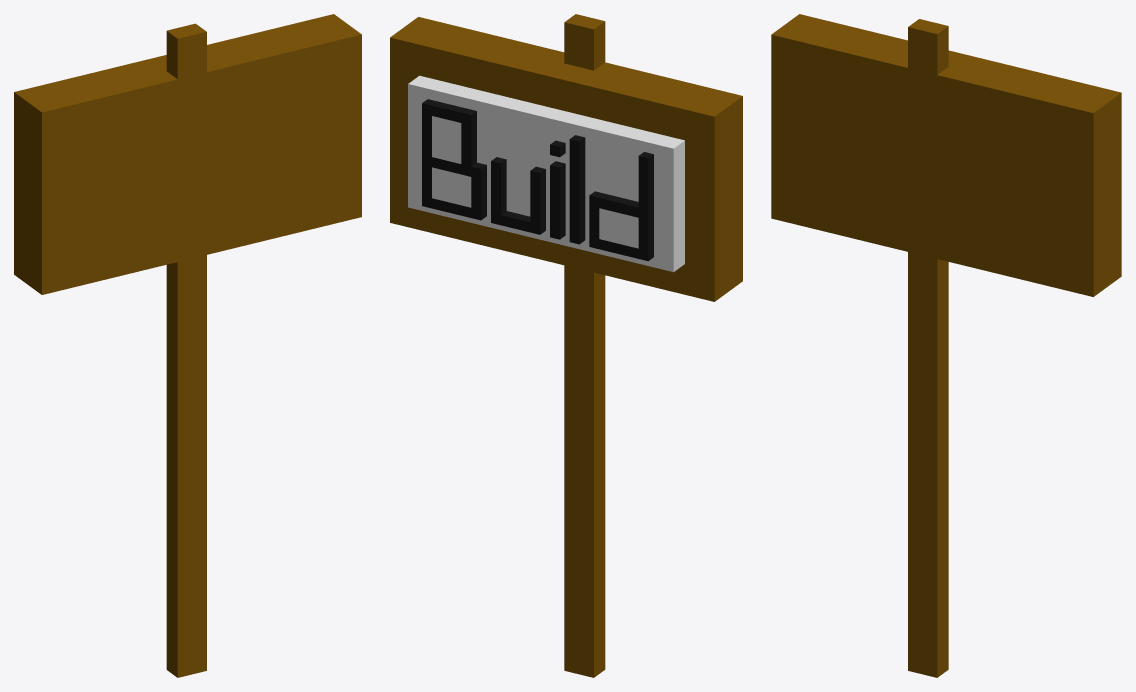
The model's file is Sign.obj.
3 views of the same model, side by side, from view 1: azimuth 30°, elevation 25°; view 2: azimuth 150°, elevation 25°; view 3: azimuth 330°, elevation 25° (orthographic).
Bounding box in the file's own units: 33 × 63 × 8.
1 material, 1 textured.
